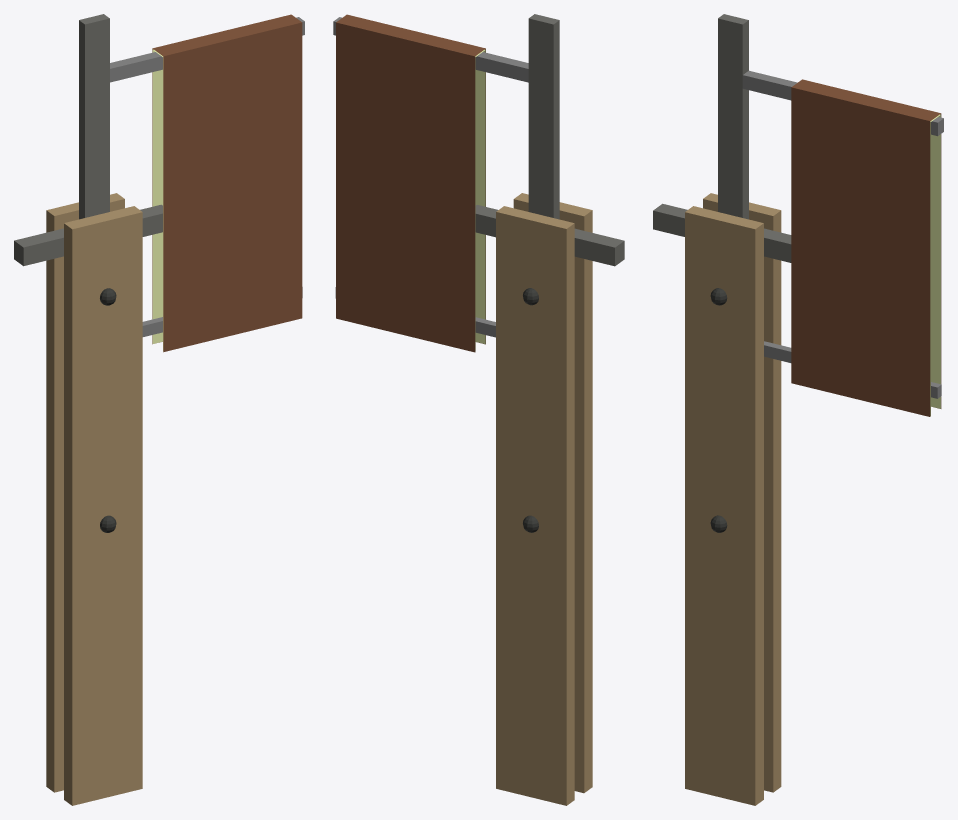
The model's file is Sign_TallBanner.fbx.
3 views of the same model, side by side, from view 1: azimuth 30°, elevation 25°; view 2: azimuth 150°, elevation 25°; view 3: azimuth 330°, elevation 25° (orthographic).
Visible parts, largest first — view 1: Sign_TallBanner, Banner; view 2: Sign_TallBanner, Banner; view 3: Sign_TallBanner, Banner.
Boxes of the visible parts, <box> form: Sign_TallBanner: <box>14,14,304,805</box>; Banner: <box>152,14,302,352</box>; Sign_TallBanner: <box>333,14,624,805</box>; Banner: <box>336,14,485,352</box>; Sign_TallBanner: <box>653,14,943,805</box>; Banner: <box>791,79,941,416</box>.
Size of the model in its own units: 145 by 377 by 31.57.
